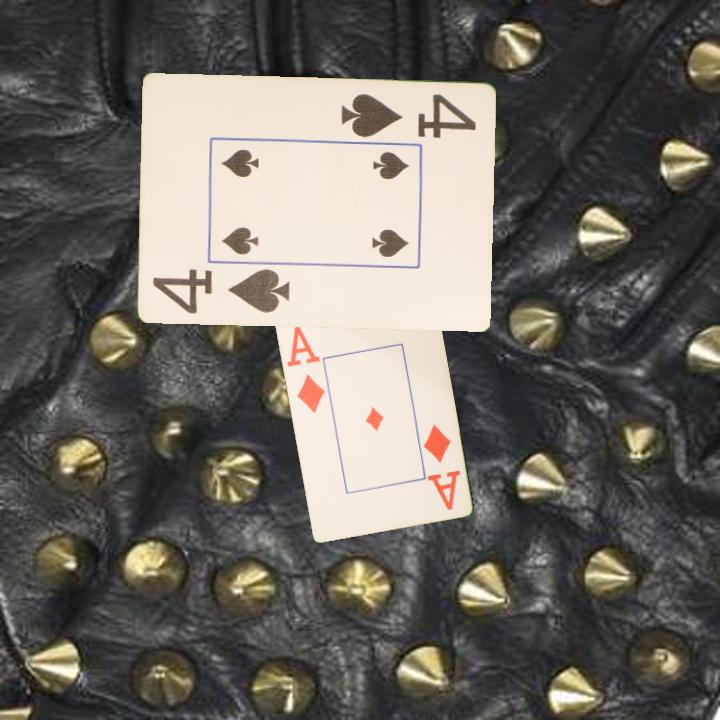4s: (149, 265, 293, 317), (337, 90, 478, 142)
Ad: (283, 322, 327, 416), (419, 420, 463, 513)
